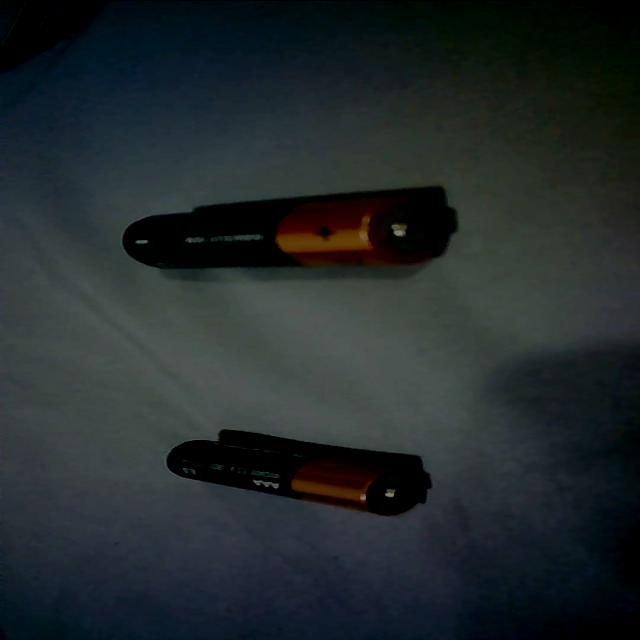AA: (114, 188, 450, 276)
AAA: (156, 432, 430, 518)
